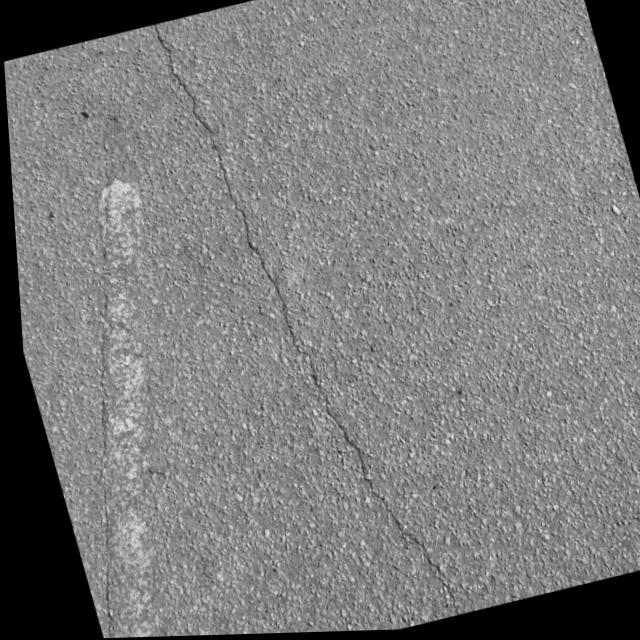Crack: (136, 0, 458, 637)
